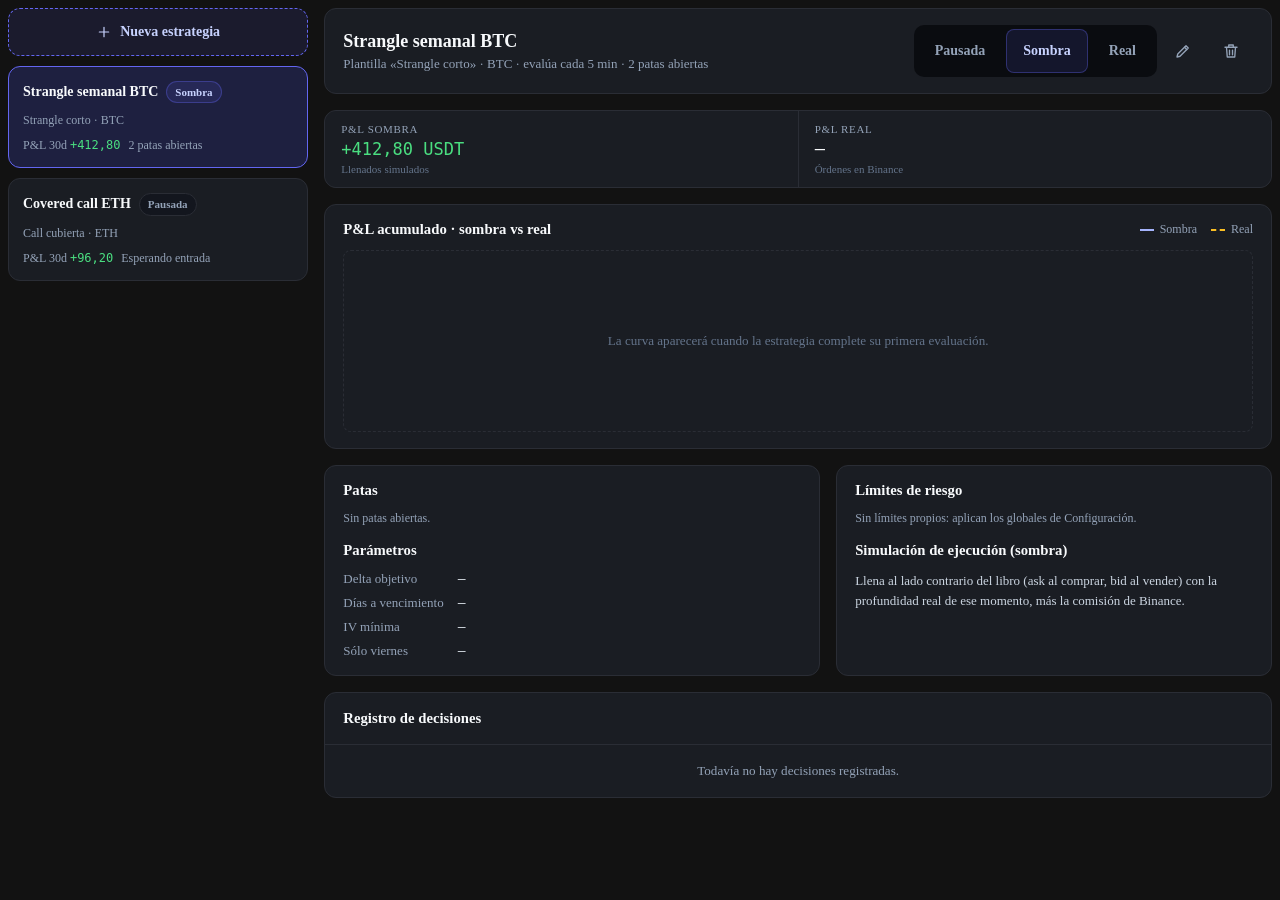
it: StrategiesTab · escritorio › cancelar la confirmación no cambia el modo
Expected: the heading "Strangle semanal BTC" is shown, [343, 30, 517, 50]
Click the radio button labelled "Real": click(1122, 51) [1092, 29, 1153, 73]
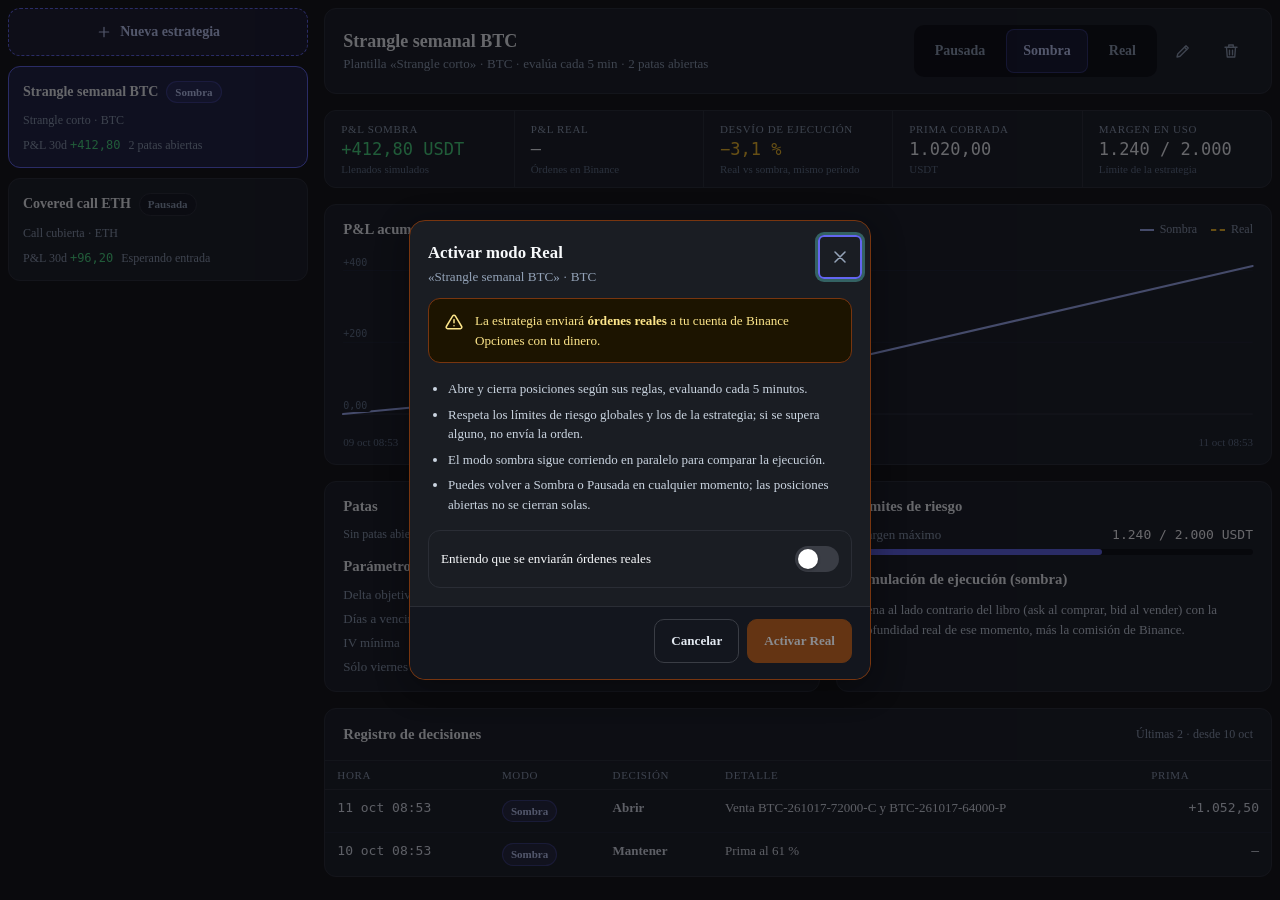
Click the button "Cancelar": click(697, 641) [654, 619, 739, 663]
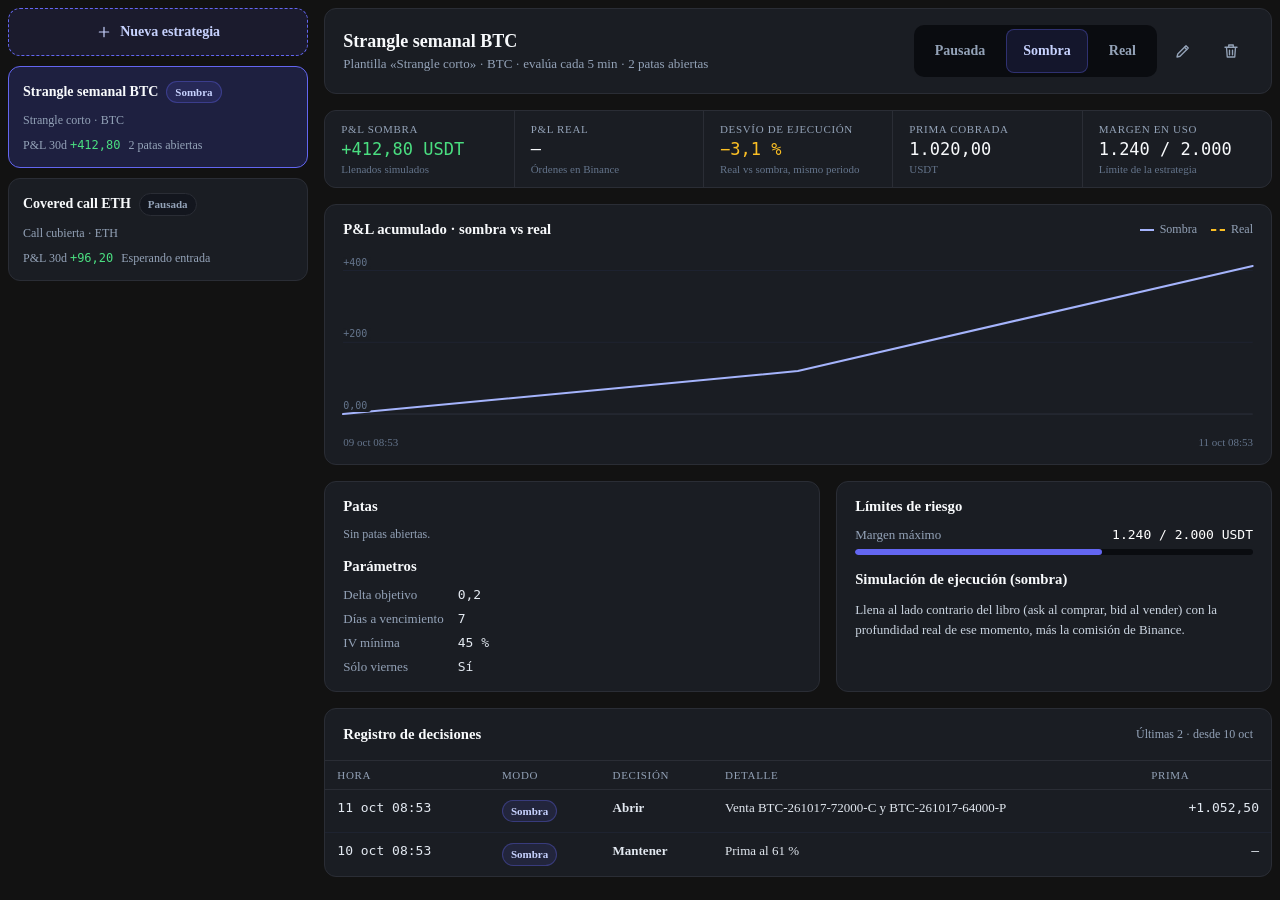
Result: the heading "Activar modo Real" is gone
